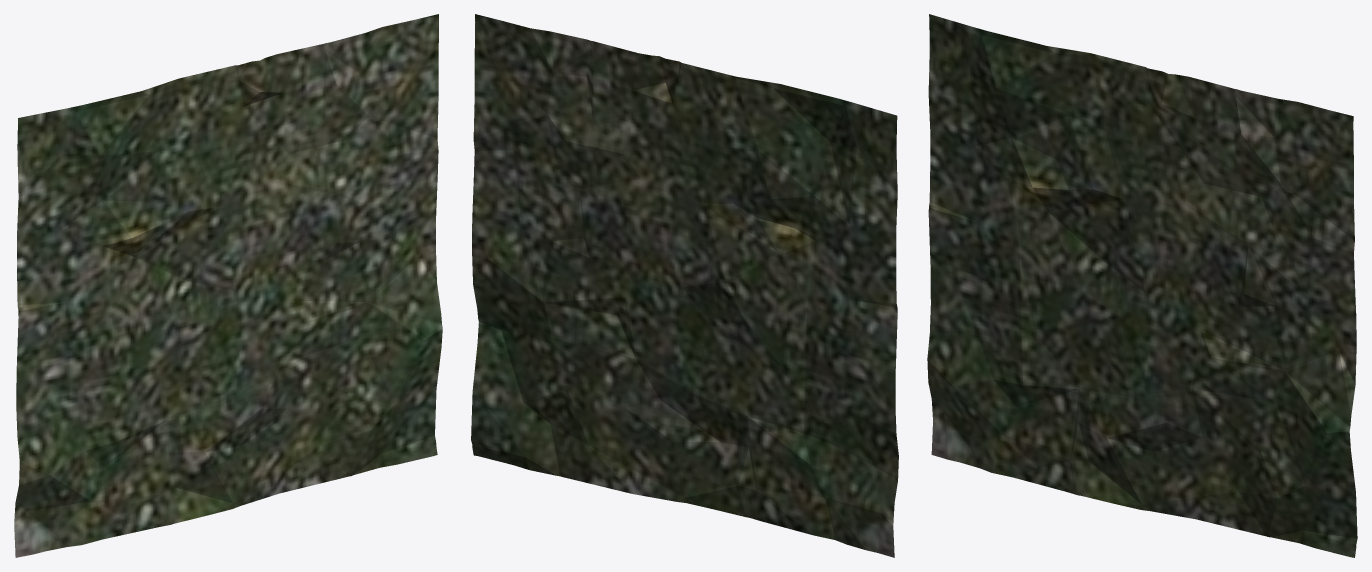
File: Tile_+001_+005_L23_000033.obj
3 views of the same model, side by side, from view 1: azimuth 30°, elevation 25°; view 2: azimuth 150°, elevation 25°; view 3: azimuth 330°, elevation 25° (orthographic).
Size of the model in its own units: 1.91 by 1.91 by 0.1008.
1 material, 1 textured.
